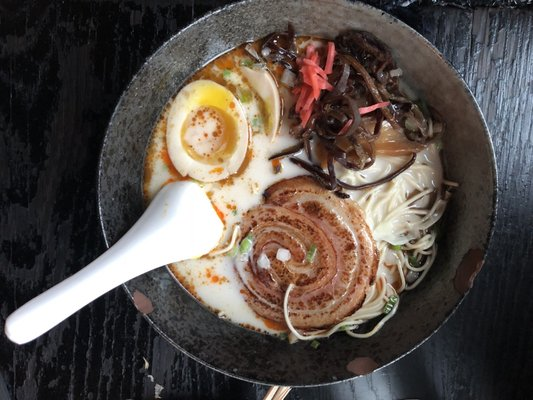salad: (5, 181, 224, 347)
